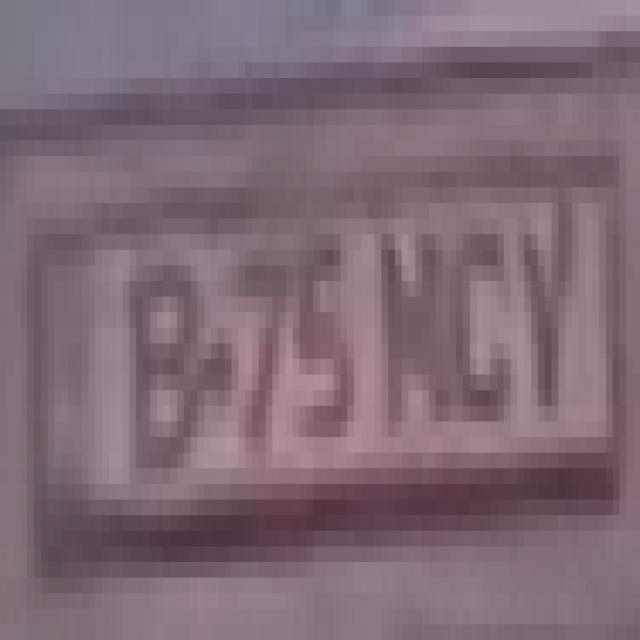Autre: (27, 204, 622, 527)
